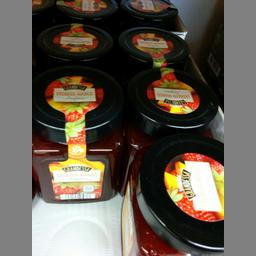jam: (121, 132, 222, 254), (32, 68, 121, 204)
